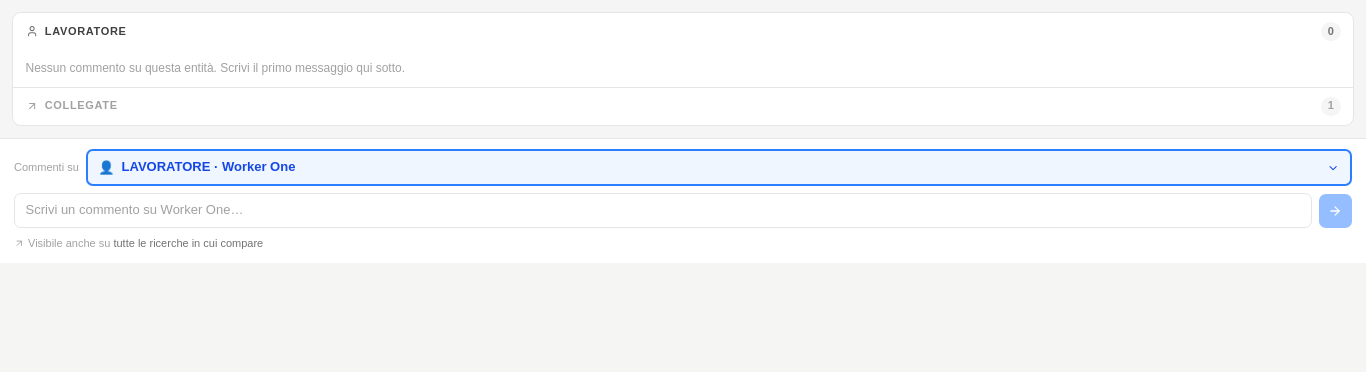
Comment descendants section › loads linked-entity comments in the collegate section on Gate 1
Click the button with test id "comments-section-toggle-descendants" at (81, 105), box [13,88,1353,125]
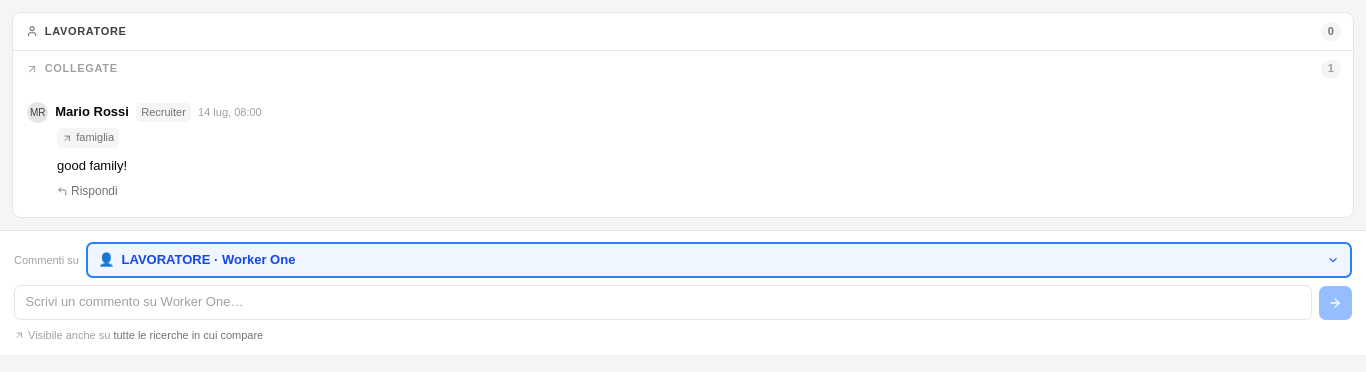
Now the element with test id "comments-root-comment-linked-1" is shown, box [27,102,262,199]
Now the element with test id "comments-origin-badge" reads "famiglia", box [76,131,114,143]
